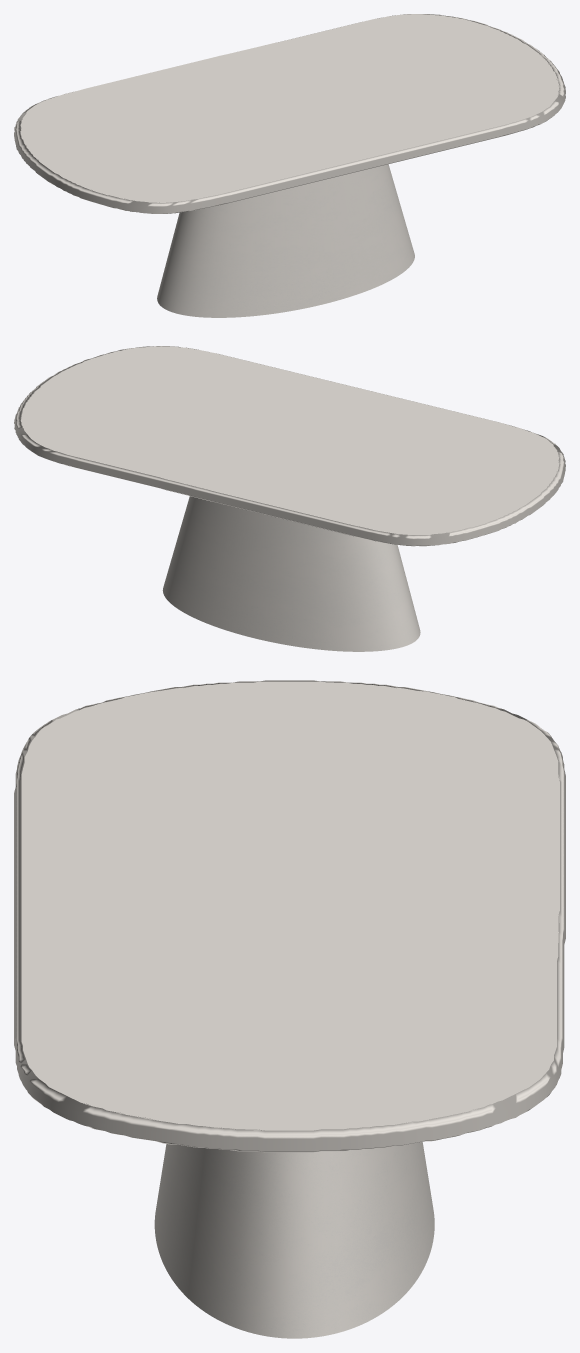
Rendered from pearlwhite_oval_round_eqone.glb.
3 renders of one model, top to bottom at view 1: azimuth 30°, elevation 25°; view 2: azimuth 150°, elevation 25°; view 3: azimuth 270°, elevation 25°, orthographic. The views are drawn at different scales.
Visible parts, largest first — view 1: round_oval, eqone; view 2: round_oval, eqone; view 3: round_oval, eqone.
Boxes of the visible parts, x1,y1,x2,y2 form: round_oval: [14, 14, 565, 213]; eqone: [157, 164, 414, 317]; round_oval: [14, 346, 565, 546]; eqone: [162, 496, 420, 651]; round_oval: [14, 680, 565, 1152]; eqone: [154, 1142, 434, 1338].
Size of the model in its own units: 7.69 by 2.5 by 3.9.
1 material, 1 textured.
